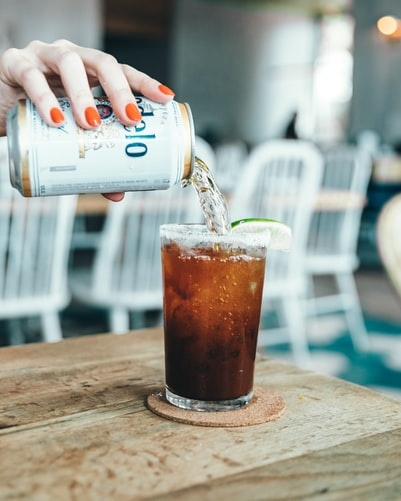whiskey: (156, 222, 269, 408)
